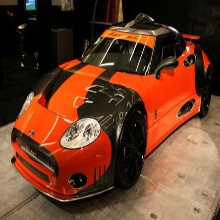no damage: (10, 14, 213, 206)
